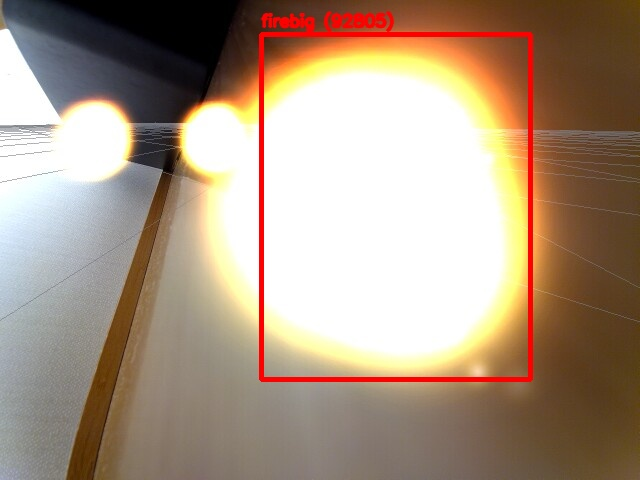firebig: (261, 34, 530, 379)
